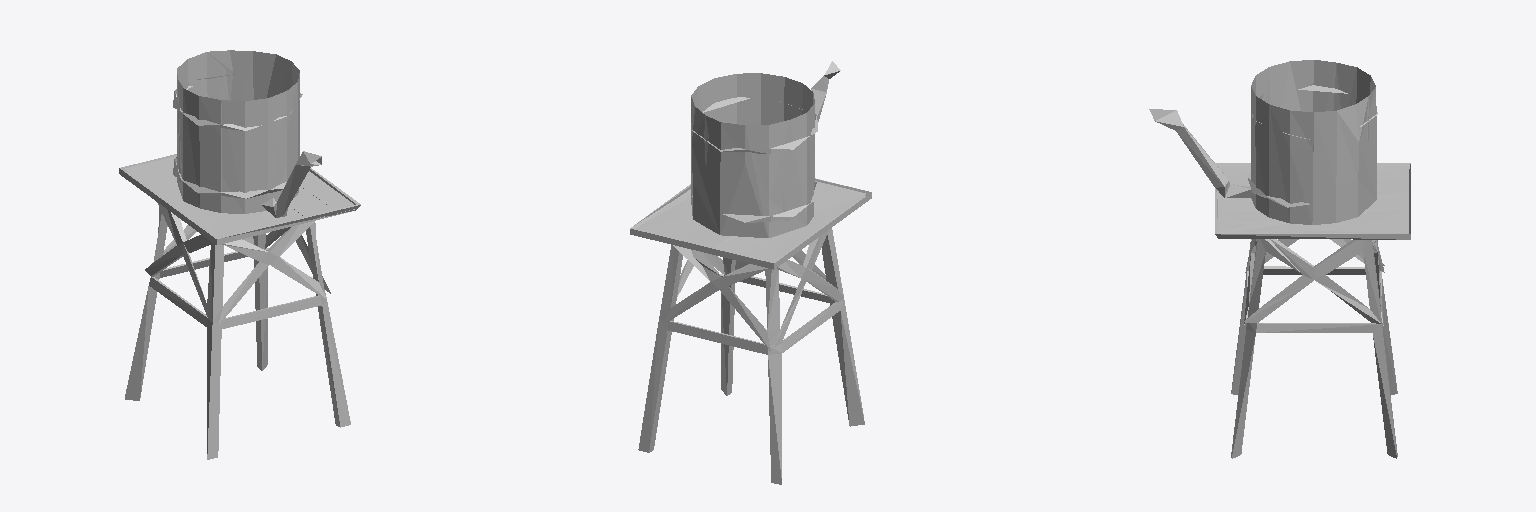
Rendered from WaterTower_LOD2.obj.
3 views of the same model, side by side, from view 1: azimuth 30°, elevation 25°; view 2: azimuth 150°, elevation 25°; view 3: azimuth 270°, elevation 25° (orthographic).
Visible parts, largest first — view 1: WaterTower; view 2: WaterTower; view 3: WaterTower.
Part boxes in pixels (bbox=[...]): WaterTower: bbox=[119, 50, 360, 459]; WaterTower: bbox=[630, 61, 871, 484]; WaterTower: bbox=[1149, 60, 1410, 458].
Bounding box in the file's own units: 3.41 × 7.56 × 5.28.